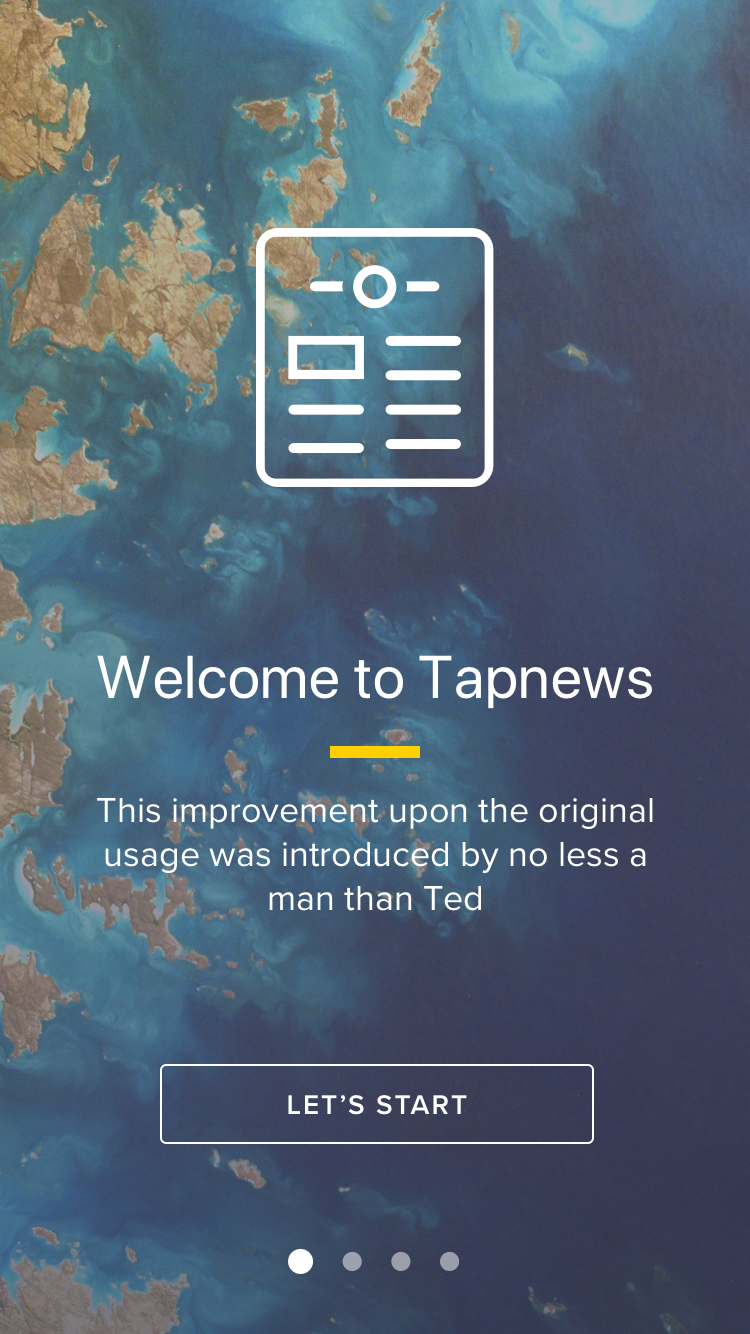BackgroundImage: (1, 1, 750, 1334)
Image: (256, 228, 495, 489)
PageIndicator: (287, 1247, 461, 1275)
Text: (96, 796, 654, 911), (97, 654, 653, 710)
TextButton: (160, 1063, 595, 1145)
